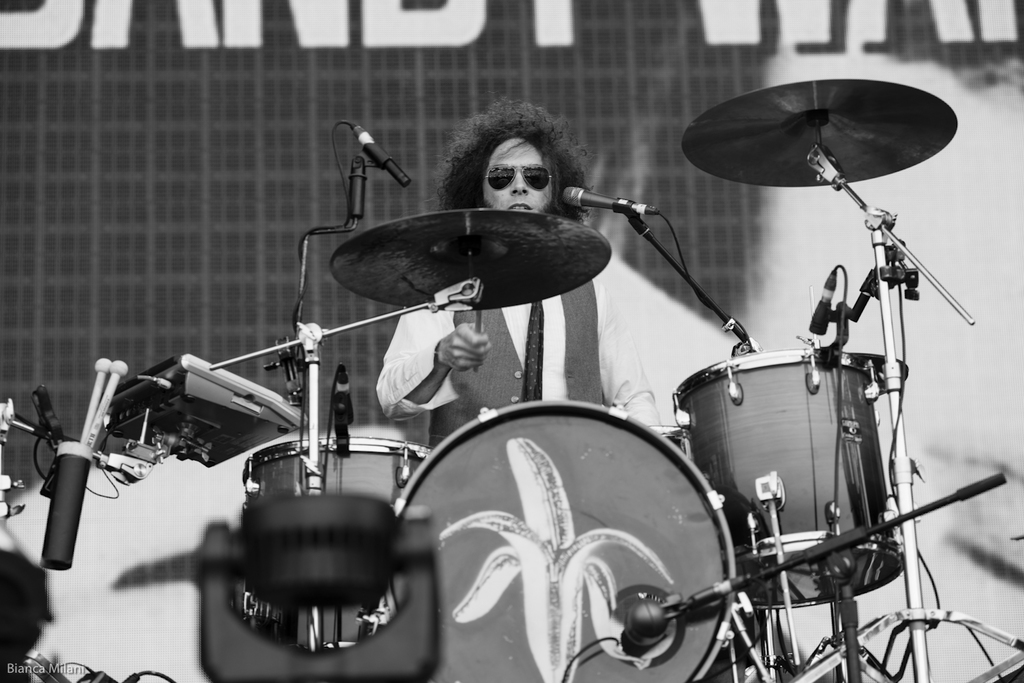Person: (375, 88, 661, 447)
